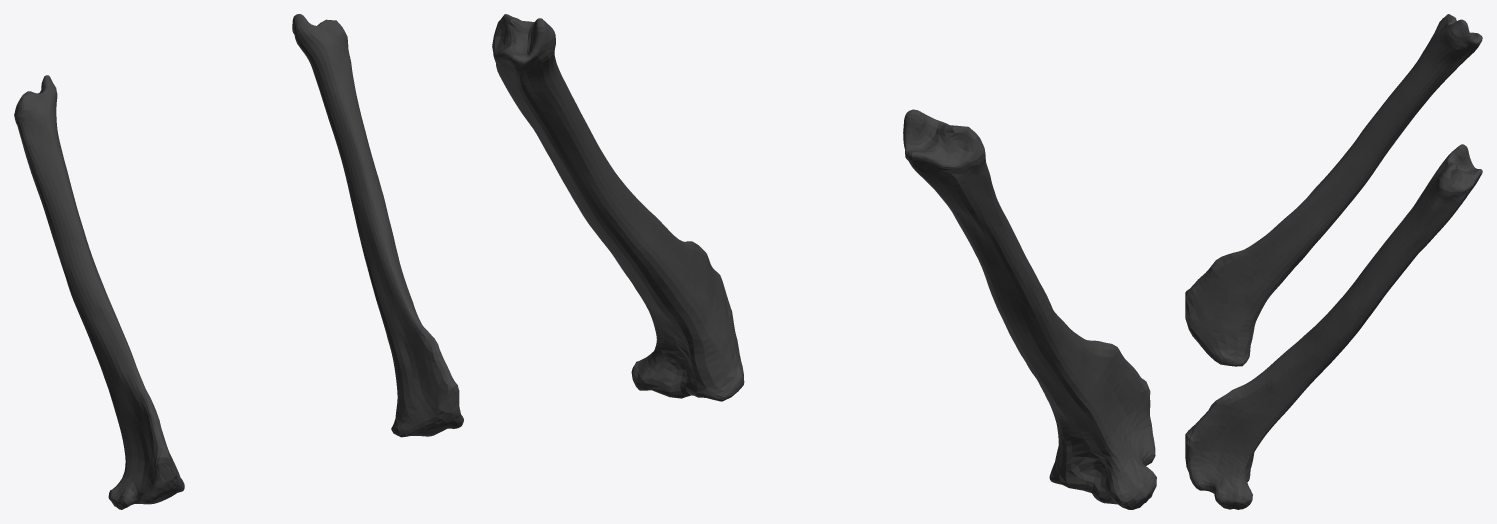
The model's file is Tibia_1.glb.
The picture shows the model from 3 angles, left to right: view 1: azimuth 30°, elevation 25°; view 2: azimuth 150°, elevation 25°; view 3: azimuth 270°, elevation 25°; orthographic projection. The views are drawn at different scales.
Visible parts, largest first — view 1: Tibia_1; view 2: Tibia_1; view 3: Tibia_1.
Boxes of the visible parts, box(x1,y1,x2,y2) form: Tibia_1: box(14, 14, 463, 509); Tibia_1: box(492, 14, 1156, 509); Tibia_1: box(1185, 14, 1482, 509).
Bounding box in the file's own units: 0.00538 × 0.00503 × 0.00392.
1 material, 1 textured.
